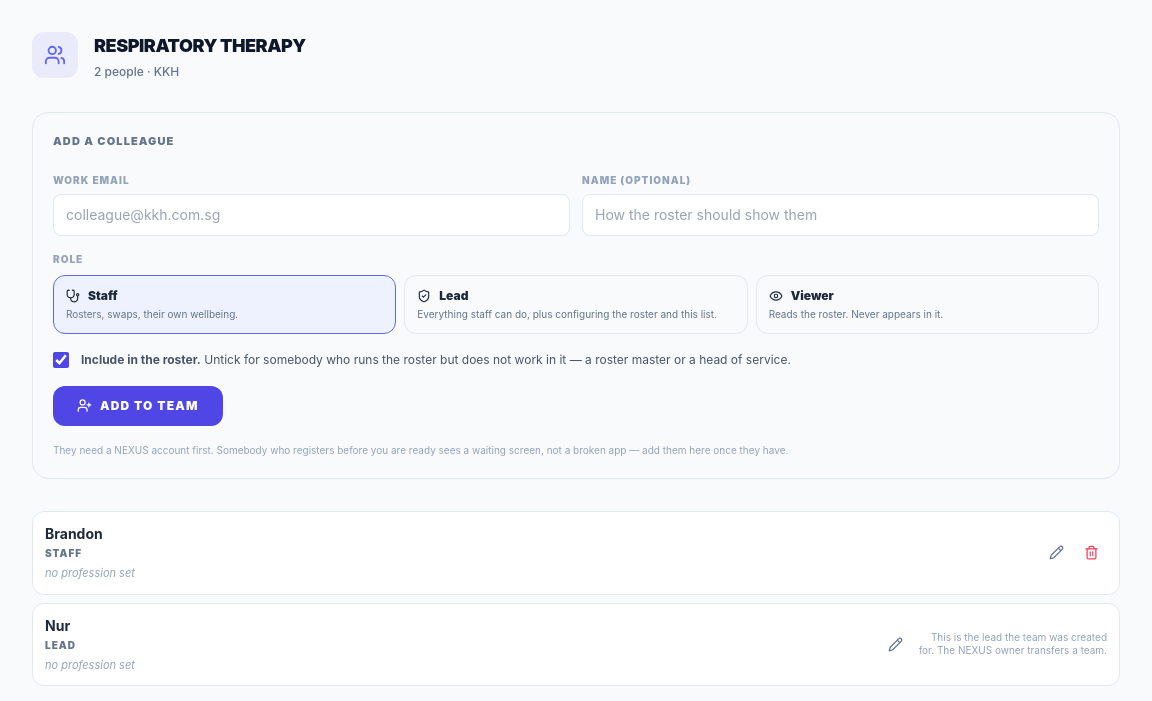
Test: adding a colleague › treats "already a member" as the success it is
Type "brandon@kkh.com.sg" into the field with placeholder "colleague@kkh.com.sg" at (312, 214), box [53,194,570,236]
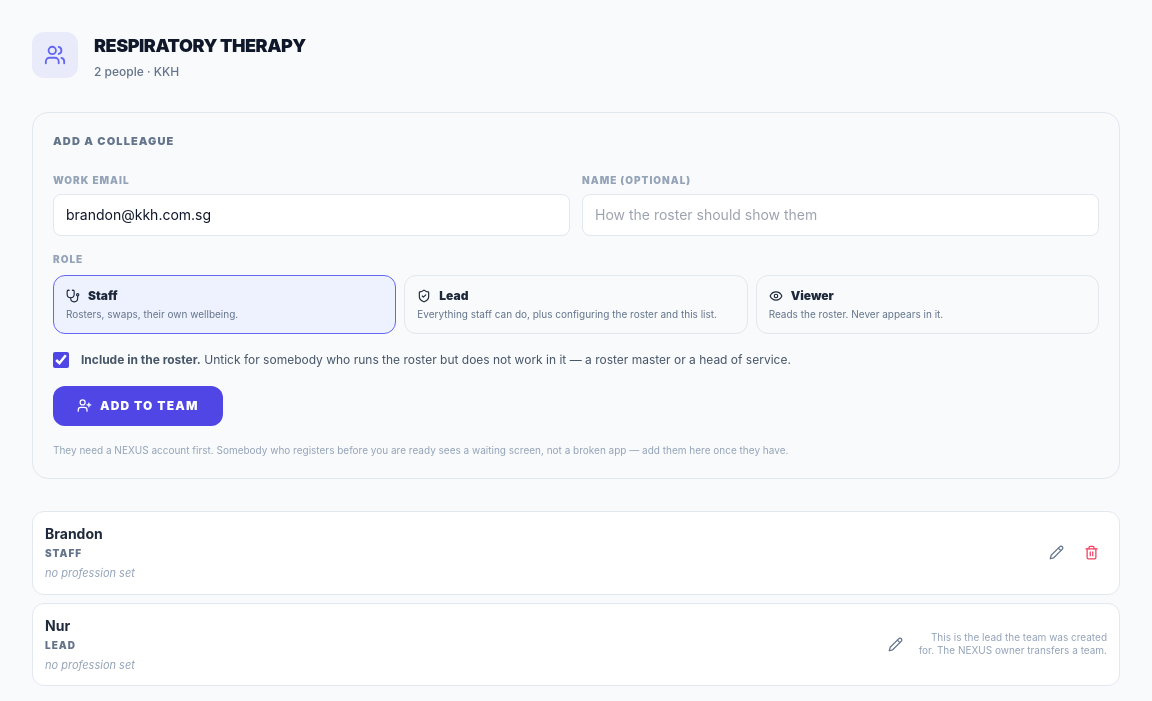
Click the button "Add to team" at (138, 406), box [53,386,223,426]
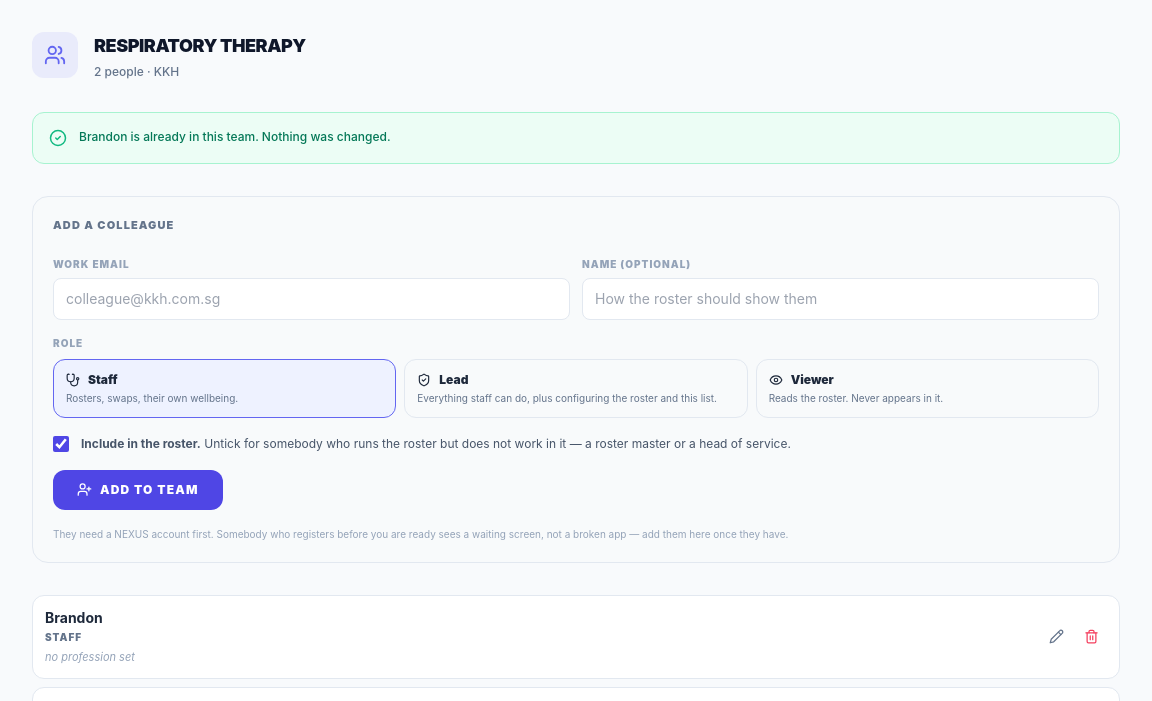
Check: the message shows "already in this team", box [79,129,390,144]
